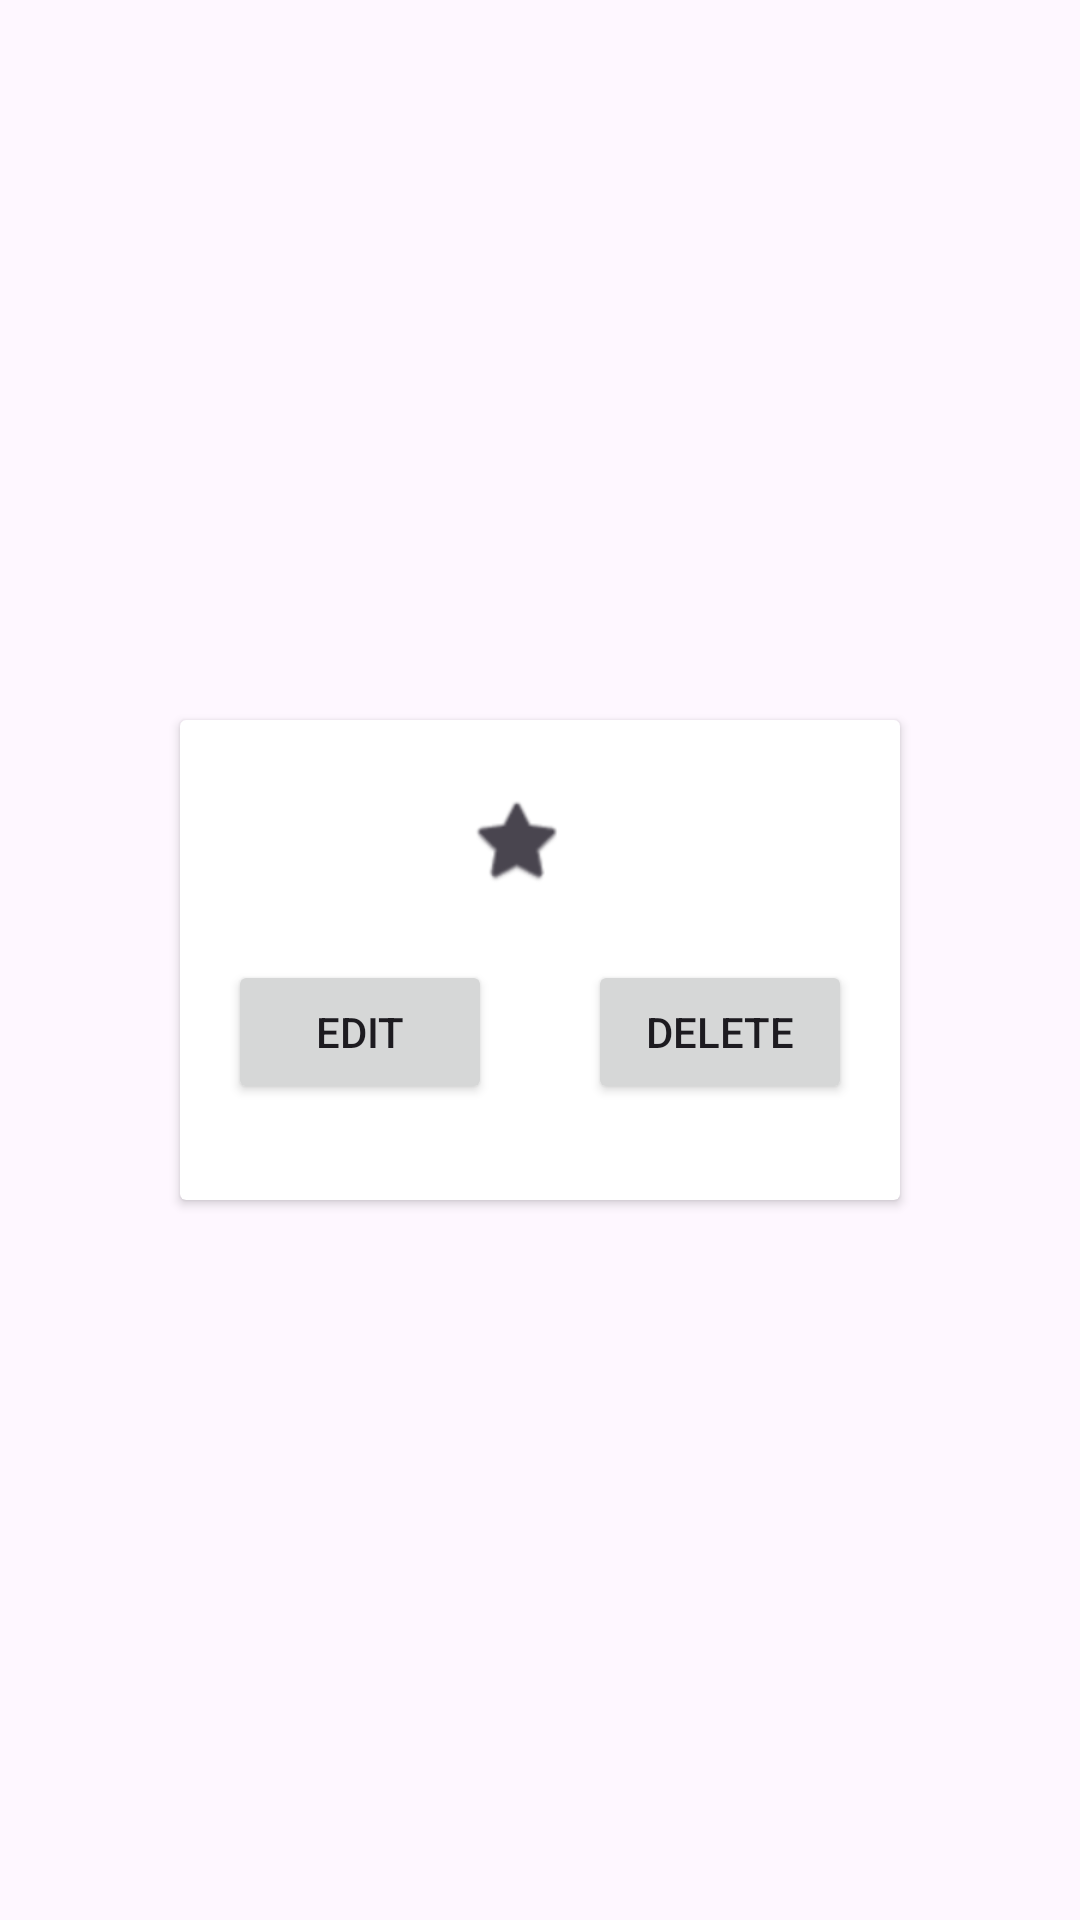

Locate icon controls on the screen. Image size 1080*1920, boxes as (x1, y1, x2, y2).
Favorite Button: (477, 802, 557, 879)
